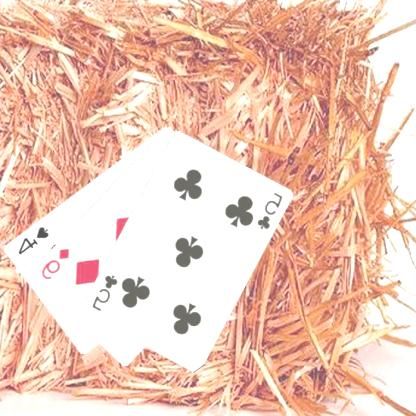4S: (17, 223, 52, 256)
5C: (90, 272, 120, 313), (256, 190, 286, 231)
6D: (40, 245, 72, 280)
